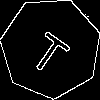T: (26, 23, 77, 78)
